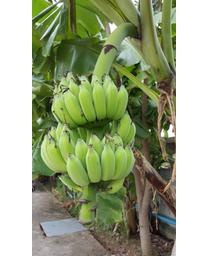banana: (39, 19, 137, 227)
